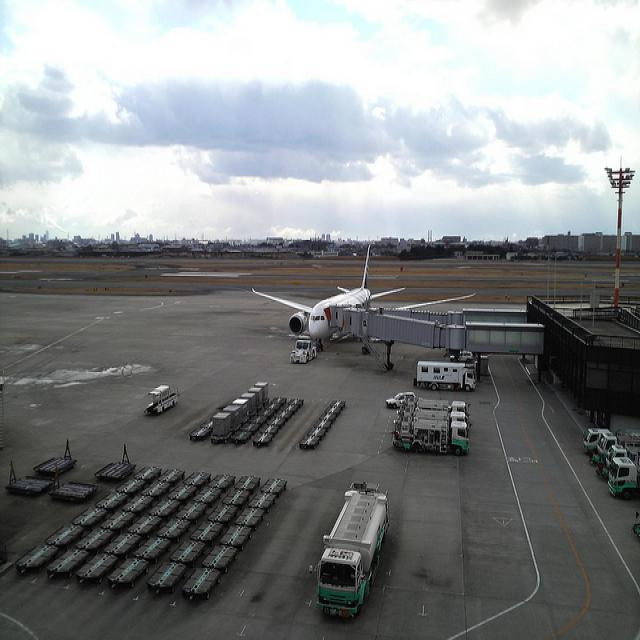Vehicle: (308, 480, 391, 618), (392, 418, 470, 454), (416, 361, 477, 391), (600, 444, 640, 480), (608, 457, 640, 500), (597, 429, 640, 458), (415, 409, 471, 431), (418, 395, 469, 417), (144, 384, 180, 414), (583, 430, 611, 456), (290, 339, 317, 364), (290, 339, 316, 363), (386, 392, 418, 408), (450, 351, 473, 363)
